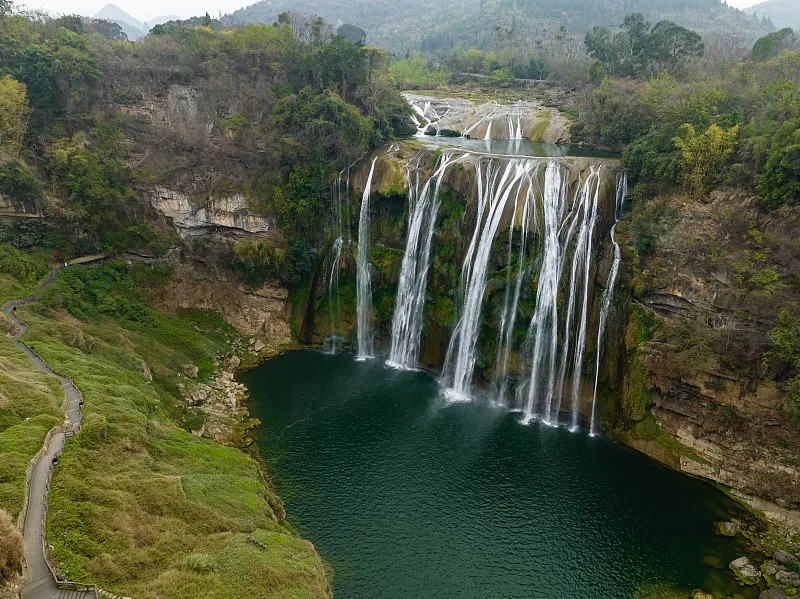Huangguoshu: (326, 94, 622, 435)
